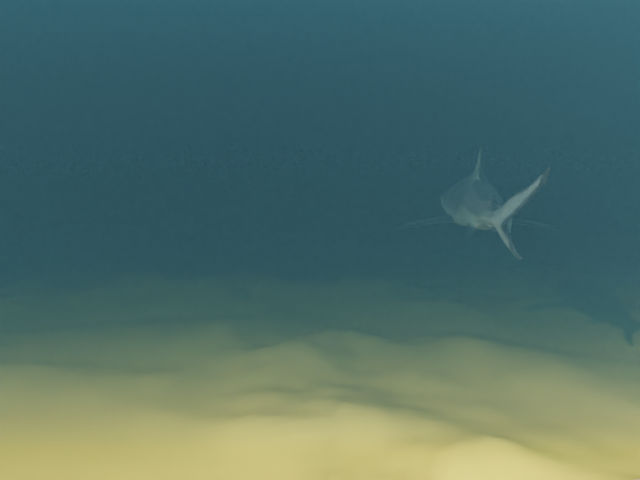Carribean Shark.001: (391, 144, 562, 260)
